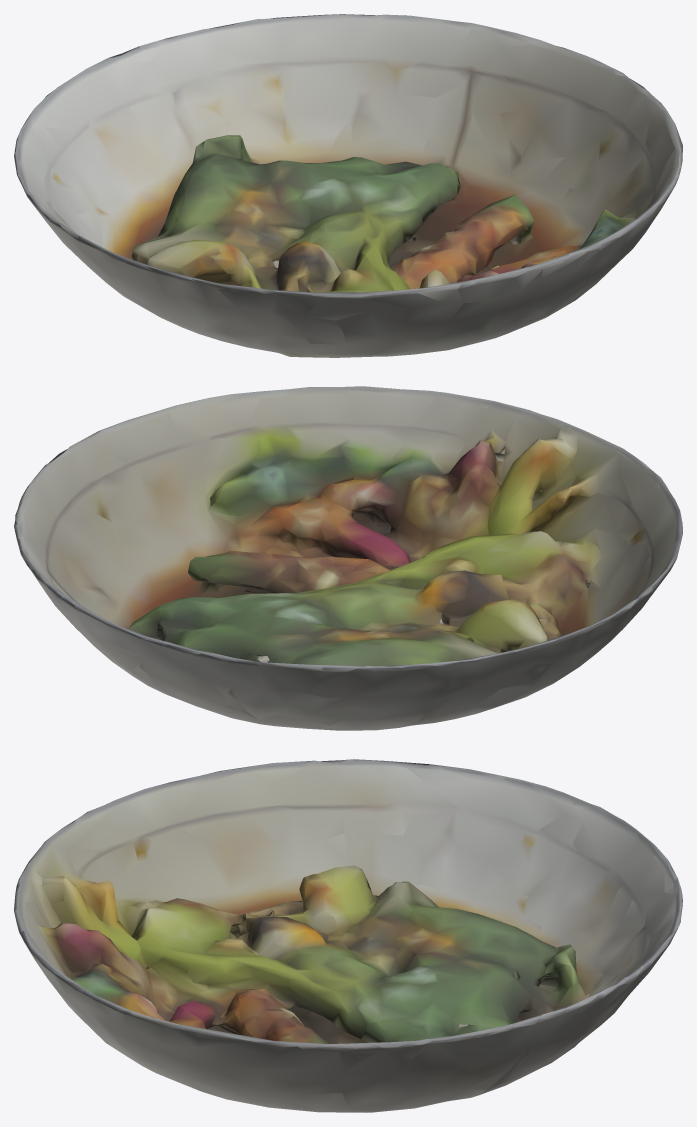
Rendered from 0001_mask_002_plate_of_green_vegetables.glb.
3 views of the same model, one above another, from view 1: azimuth 30°, elevation 25°; view 2: azimuth 150°, elevation 25°; view 3: azimuth 270°, elevation 25° (orthographic).
Parts seen in each view (by area): view 1: mask_002_object; view 2: mask_002_object; view 3: mask_002_object.
Part boxes in pixels (box(x1,y1,x2,y2)): mask_002_object: box(14, 14, 682, 357); mask_002_object: box(14, 386, 682, 730); mask_002_object: box(14, 759, 682, 1112).
Bounding box in the file's own units: 0.4554 × 0.1086 × 0.4474.
